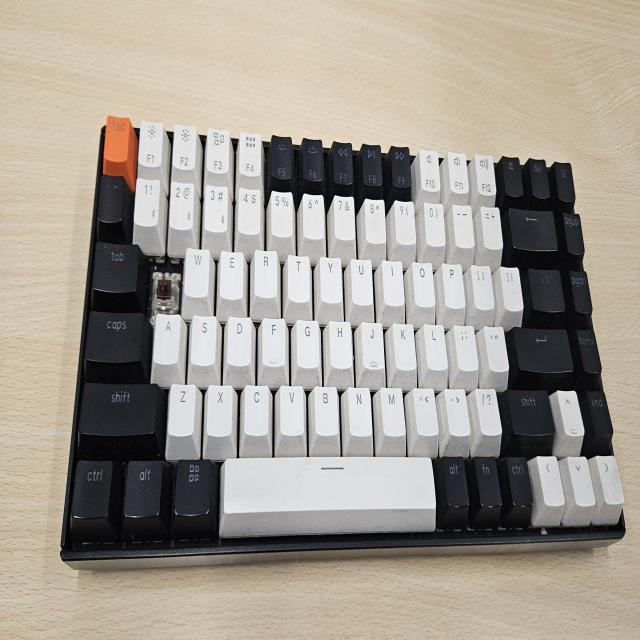C: (151, 254, 177, 314)
